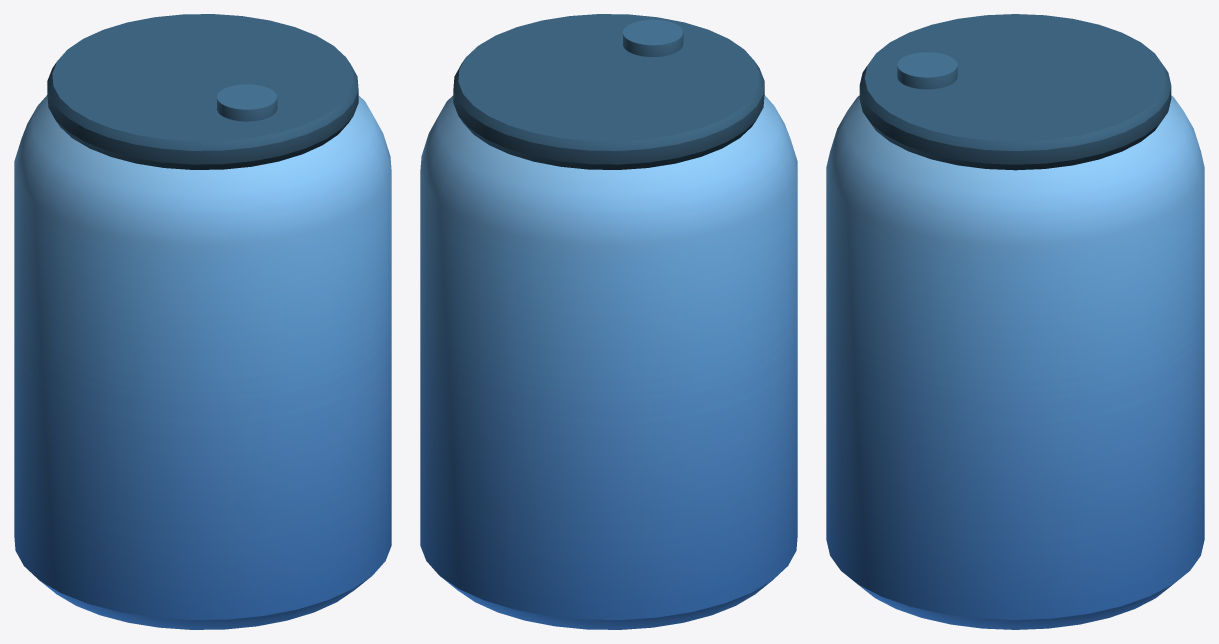
File: barrel.obj
3 views of the same model, side by side, from view 1: azimuth 30°, elevation 25°; view 2: azimuth 150°, elevation 25°; view 3: azimuth 270°, elevation 25° (orthographic).
Parts seen in each view (by area): view 1: Barrel; view 2: Barrel; view 3: Barrel.
Part boxes in pixels (bbox=[...]): Barrel: bbox=[14, 14, 391, 629]; Barrel: bbox=[420, 14, 797, 629]; Barrel: bbox=[826, 14, 1204, 629].
Bounding box in the file's own units: 2.19 × 3.23 × 2.19.
